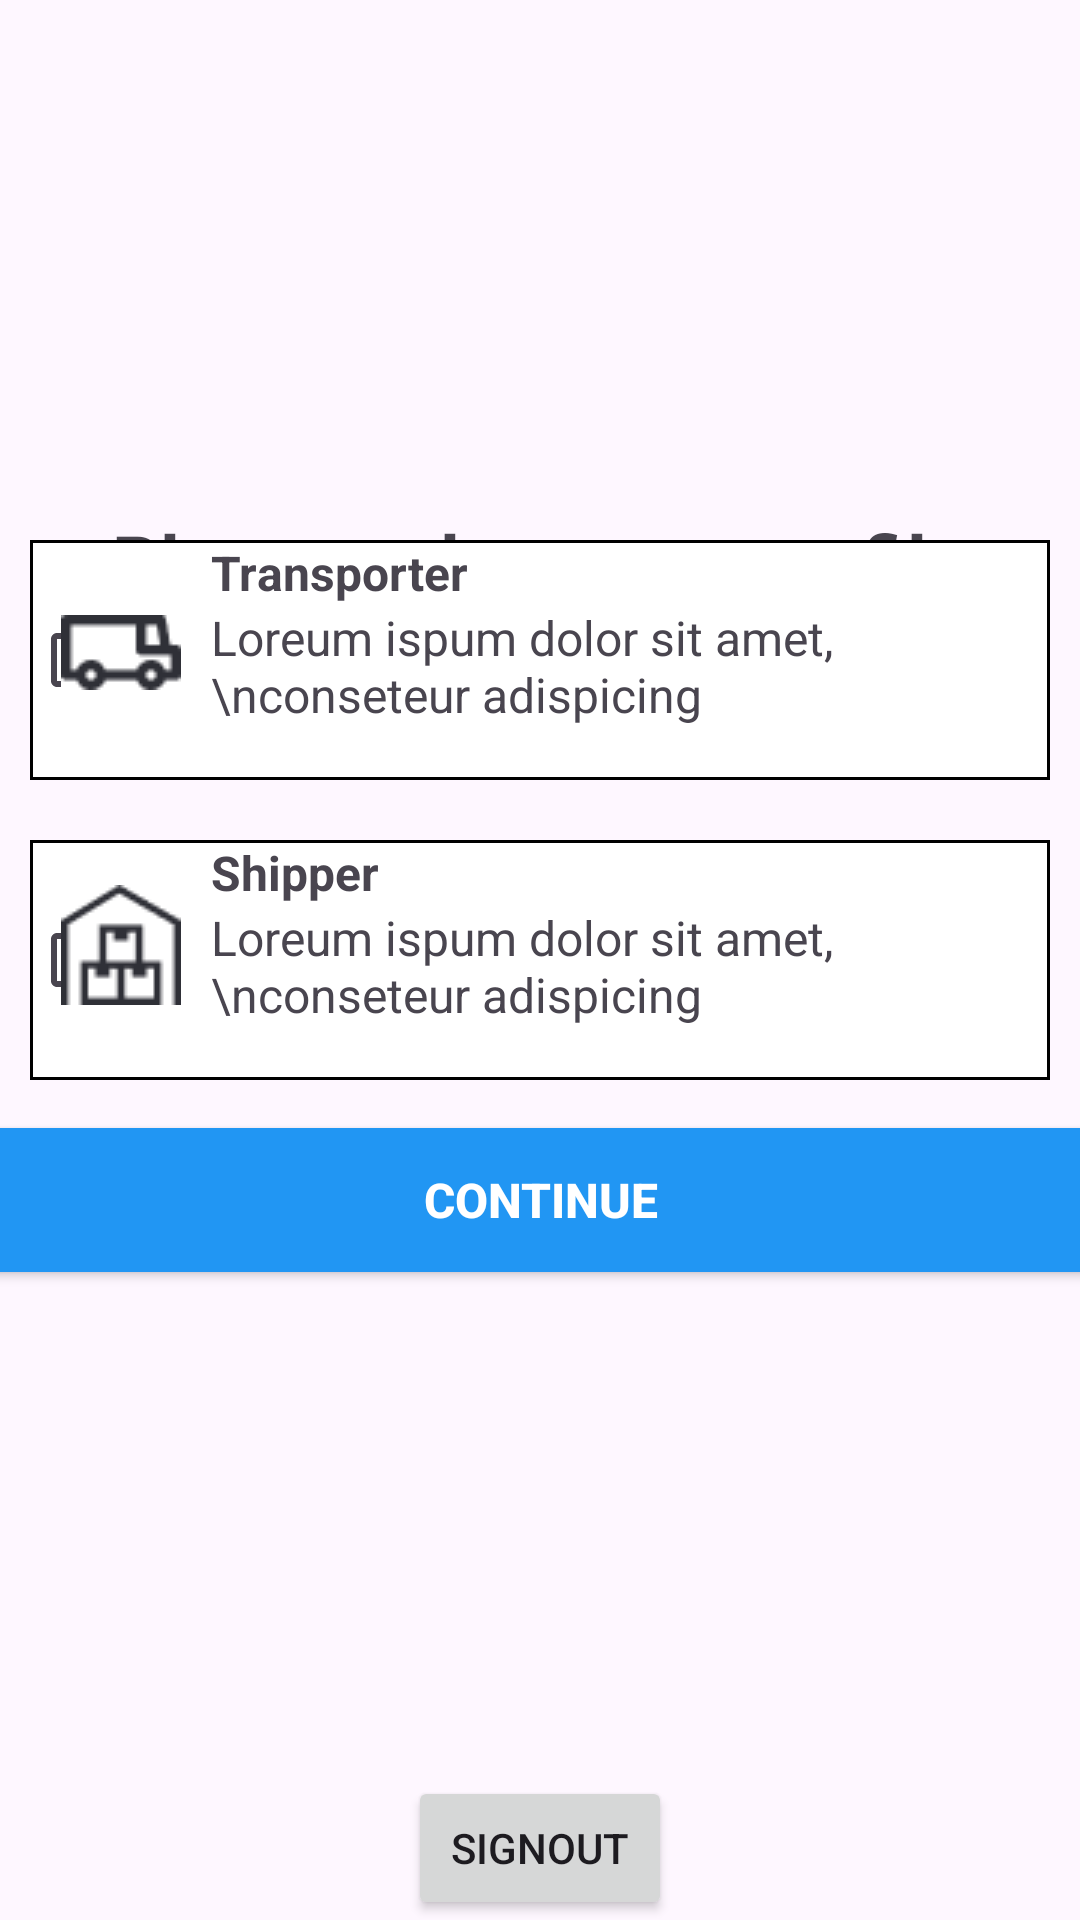

Screen size 1080px×1920px. Icon name, then its center in pixels as (x,y):
truck: (121,652)
